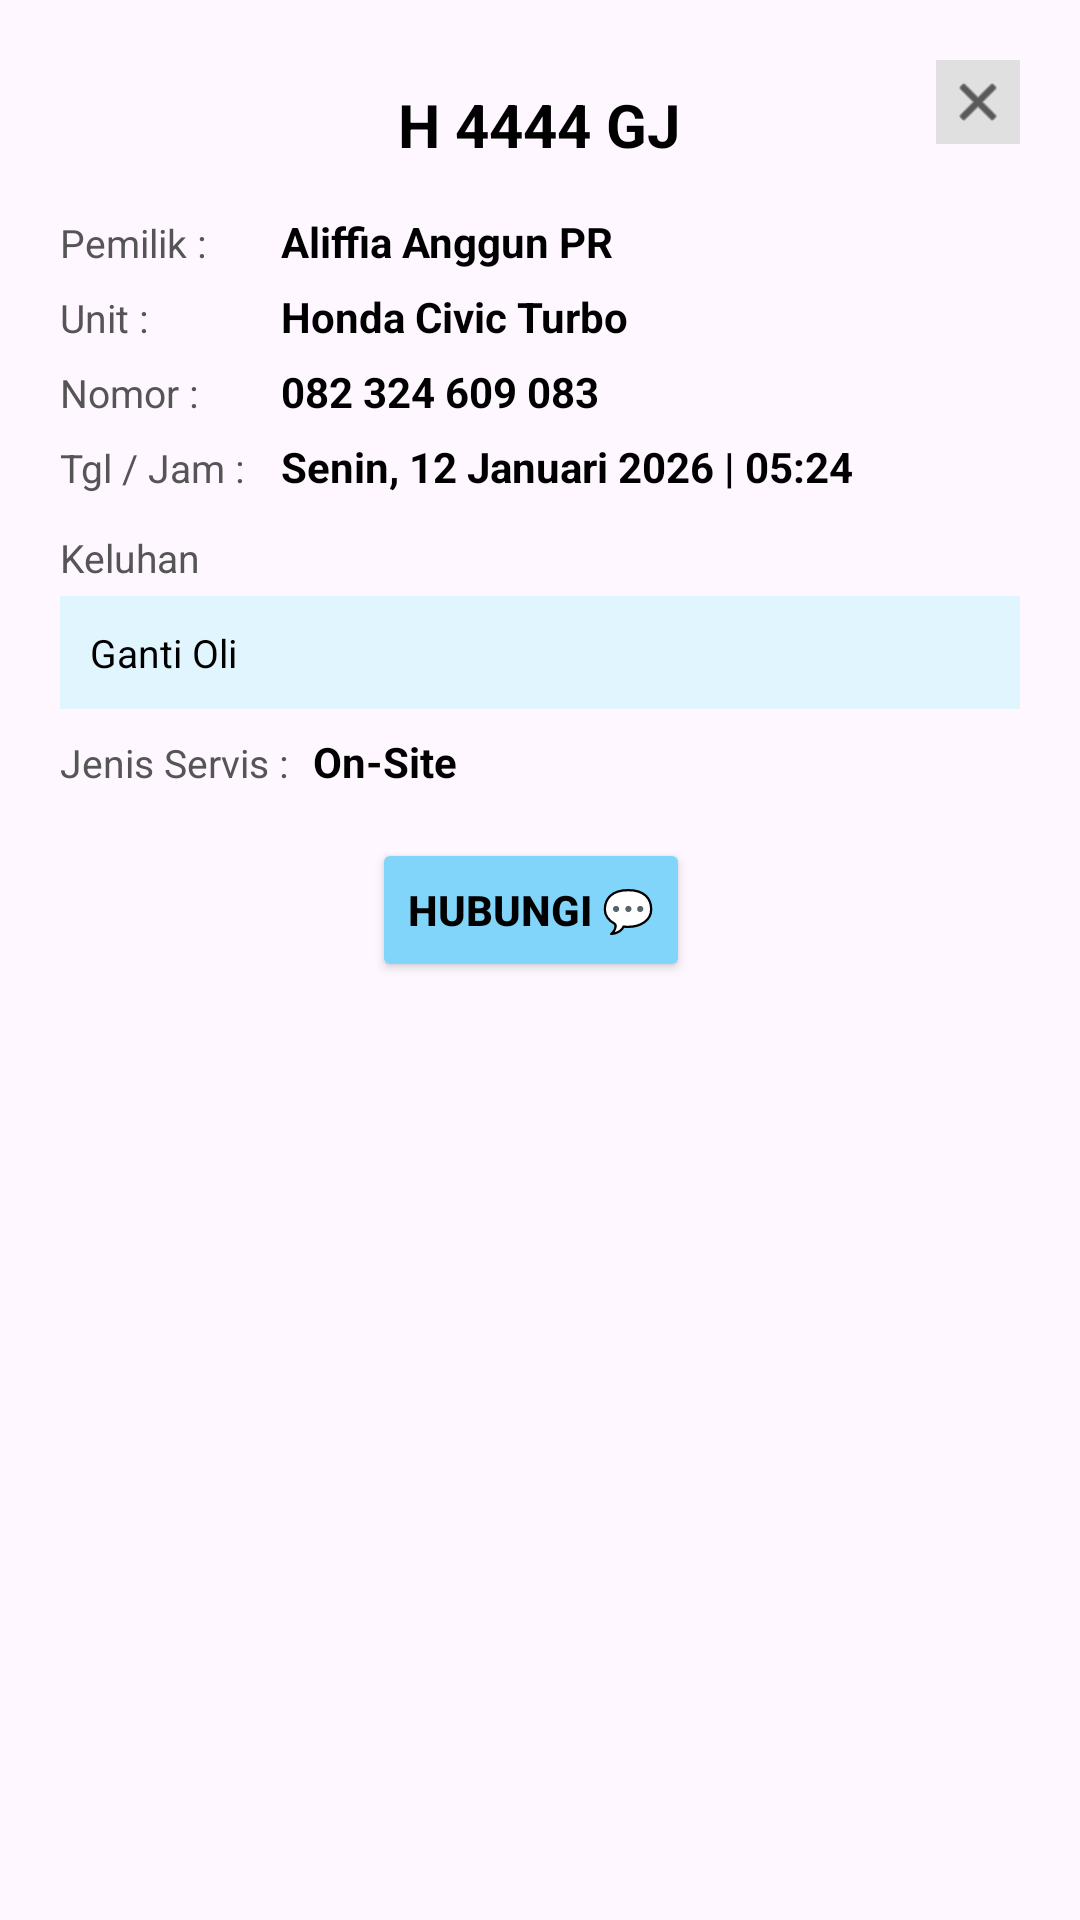

Locate icon controls on the screen. Image size 1080w x 1920h, boxes as (x1, y1, x2, y2).
close clear cancel: (936, 60, 1020, 144)
